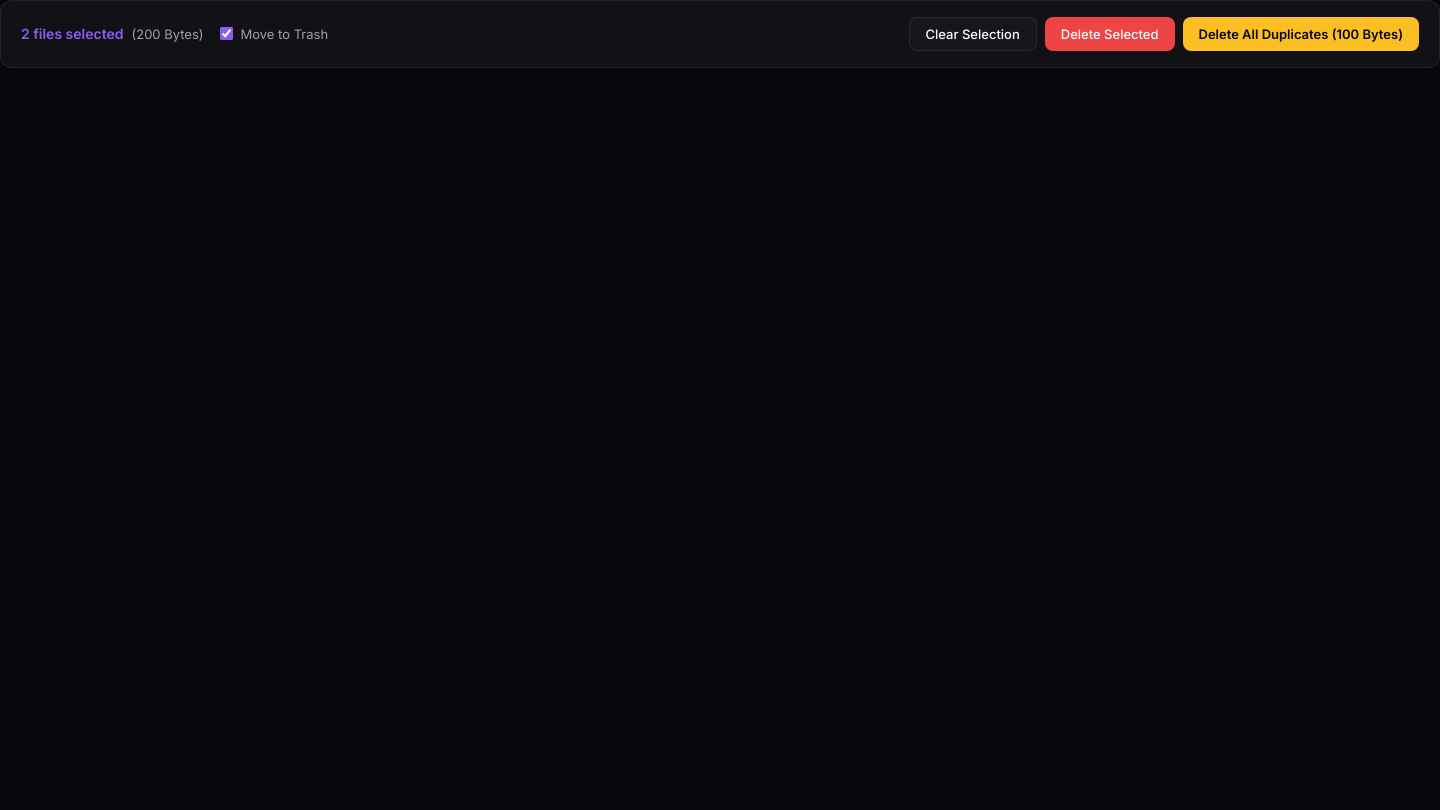
DeleteControls › should show partial success message
Click the button "Delete Selected". click: click(1110, 34)
box: [1045,17,1175,51]
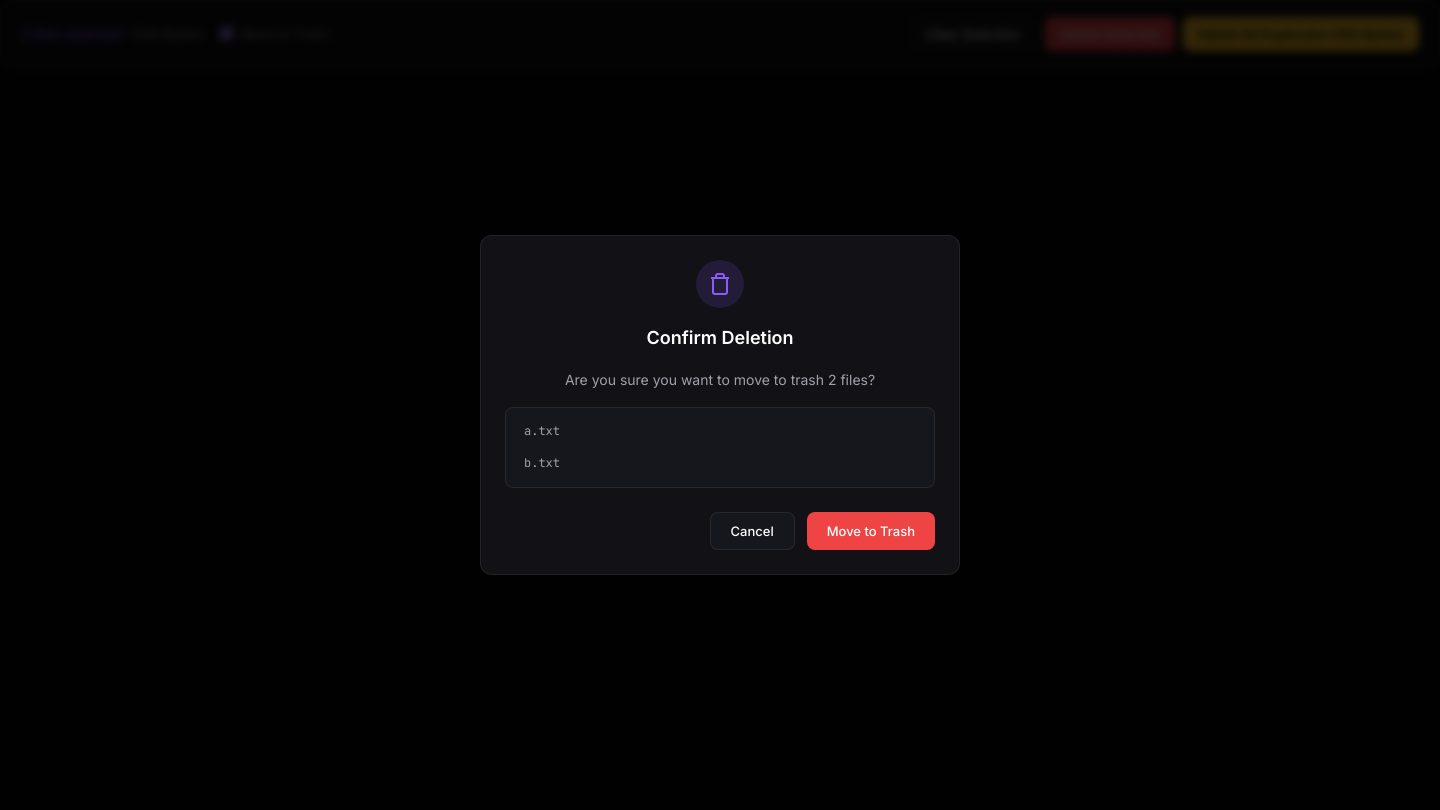
Click the button "Move to Trash". click: click(871, 531)
box: [807,512,935,550]
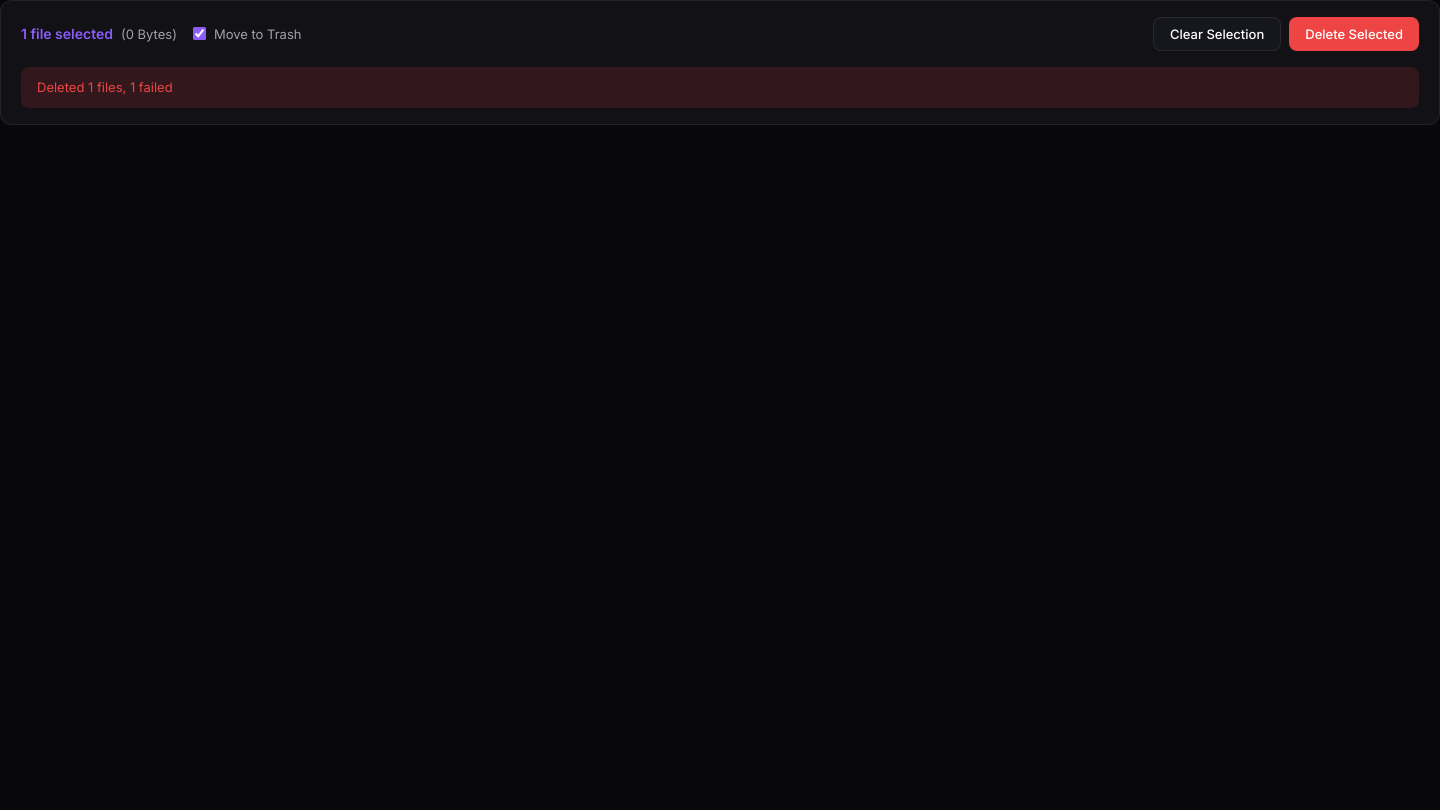
Expected: the text "Deleted 1 files, 1 failed" is shown, [21,67,1419,108]
